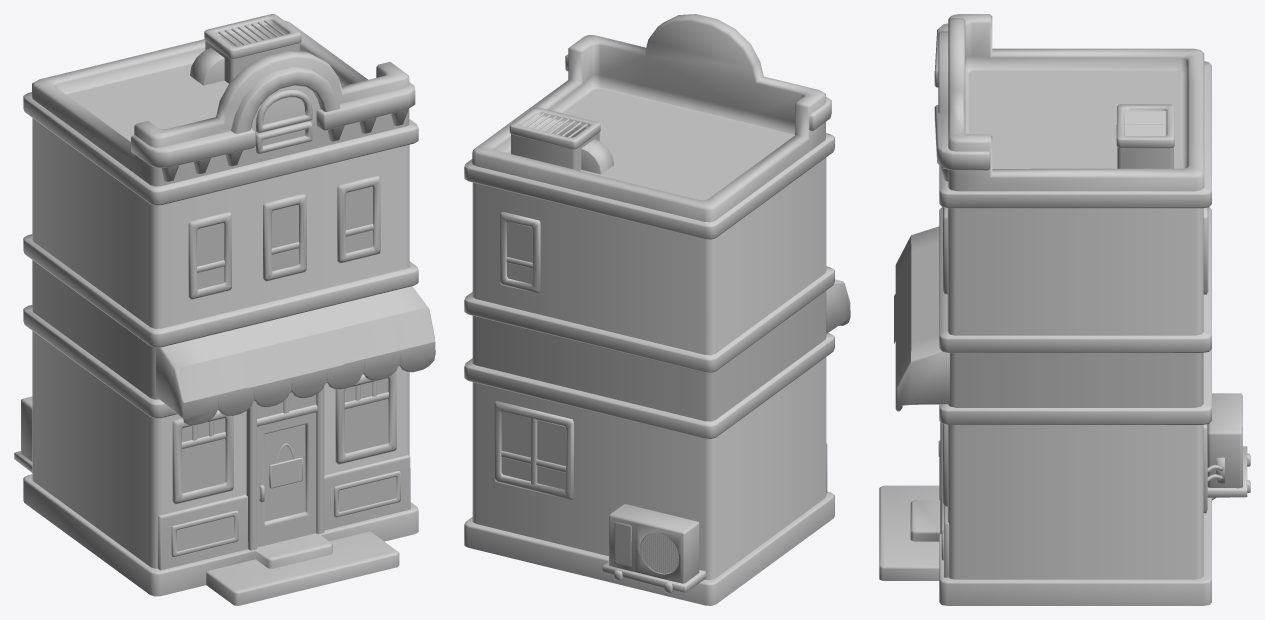
The model's file is barber_shop_03.fbx.
3 renders of one model, left to right at view 1: azimuth 30°, elevation 25°; view 2: azimuth 150°, elevation 25°; view 3: azimuth 270°, elevation 25°, orthographic. The views are drawn at different scales.
Visible parts, largest first — view 1: barber_shop_03, barber_shop_bricks_03, barber_shop_texture_03; view 2: barber_shop_03, barber_shop_bricks_03, barbershop_wire_03; view 3: barber_shop_03, barber_shop_bricks_03, barber_shop_texture_03.
Part boxes in pixels (left/top/right/bottom): barber_shop_03: left=14, top=14, right=435, bottom=605; barber_shop_bricks_03: left=32, top=118, right=409, bottom=568; barber_shop_texture_03: left=181, top=321, right=388, bottom=491; barber_shop_03: left=464, top=14, right=850, bottom=605; barber_shop_bricks_03: left=472, top=157, right=826, bottom=579; barbershop_wire_03: left=641, top=533, right=678, bottom=573; barber_shop_03: left=879, top=14, right=1250, bottom=605; barber_shop_bricks_03: left=947, top=208, right=1203, bottom=579; barber_shop_texture_03: left=894, top=267, right=909, bottom=357.
Bounding box in the file's own units: 2.96 × 5.31 × 3.49.
